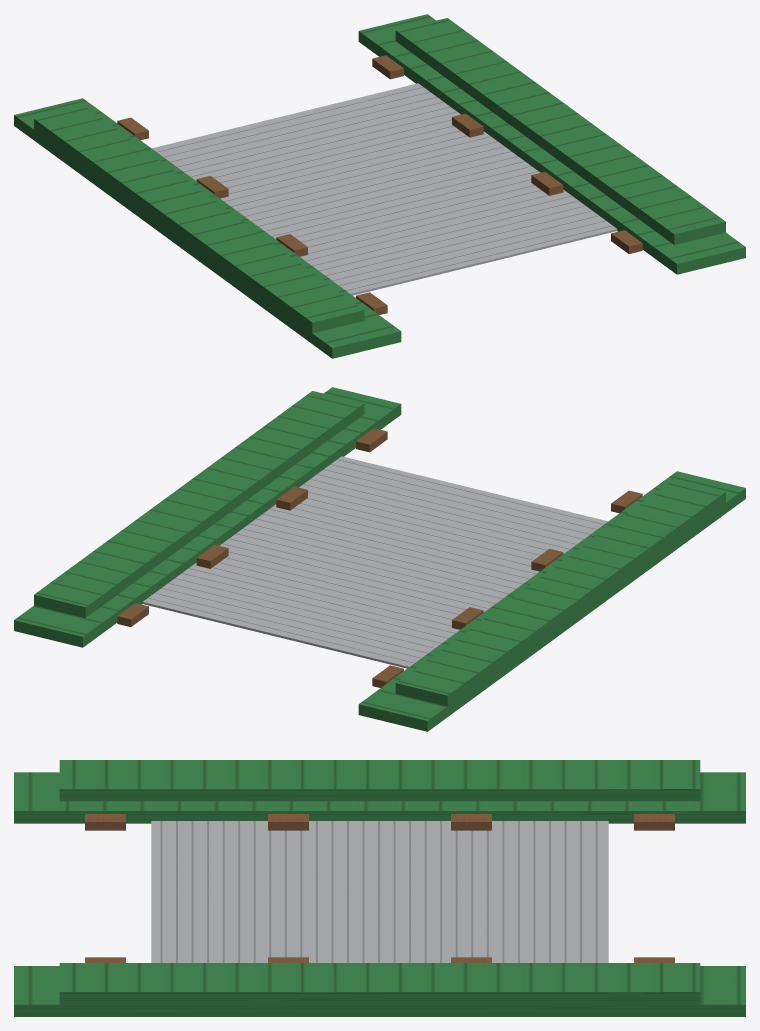
3 views of the same model, one above another, from view 1: azimuth 30°, elevation 25°; view 2: azimuth 150°, elevation 25°; view 3: azimuth 270°, elevation 25° (orthographic). The views are drawn at different scales.
Parts seen in each view (by area): view 1: node_component_11110_04_03072_002_02_four_seasons_garden, node_component_11110_04_03072_002_01_myeongnyang_fountain, node_component_11110_04_03072_002_03_plaza_amenities; view 2: node_component_11110_04_03072_002_02_four_seasons_garden, node_component_11110_04_03072_002_01_myeongnyang_fountain, node_component_11110_04_03072_002_03_plaza_amenities; view 3: node_component_11110_04_03072_002_02_four_seasons_garden, node_component_11110_04_03072_002_01_myeongnyang_fountain, node_component_11110_04_03072_002_03_plaza_amenities.
Boxes of the visible parts, bbox=[...] form: node_component_11110_04_03072_002_02_four_seasons_garden: bbox=[14, 14, 745, 358]; node_component_11110_04_03072_002_01_myeongnyang_fountain: bbox=[152, 83, 617, 295]; node_component_11110_04_03072_002_03_plaza_amenities: bbox=[117, 55, 642, 314]; node_component_11110_04_03072_002_02_four_seasons_garden: bbox=[14, 387, 745, 731]; node_component_11110_04_03072_002_01_myeongnyang_fountain: bbox=[142, 456, 607, 668]; node_component_11110_04_03072_002_03_plaza_amenities: bbox=[117, 428, 642, 687]; node_component_11110_04_03072_002_02_four_seasons_garden: bbox=[14, 760, 745, 1016]; node_component_11110_04_03072_002_01_myeongnyang_fountain: bbox=[151, 821, 608, 962]; node_component_11110_04_03072_002_03_plaza_amenities: bbox=[85, 814, 674, 962].
Bounding box in the file's own units: 24 × 1.2 × 32.
Materials: 3 (3 with a texture image).
